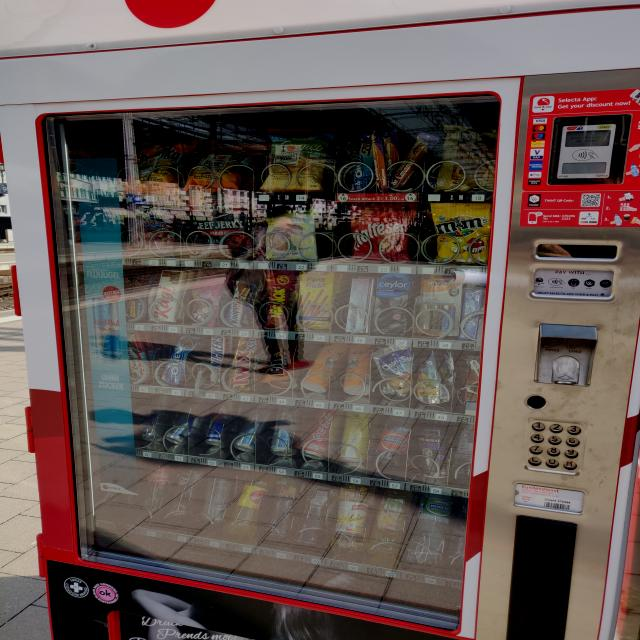c-swiss_dosenabisicetea__33__9120025930135: (296, 346, 342, 393), (340, 346, 373, 395)
caferoyal_classicmacchiato__33__7617014164487: (413, 419, 456, 478)
caprisun_multivitamin__20__4000177605004: (412, 351, 458, 405), (372, 348, 412, 400)
coke__dose_33__54491472: (298, 408, 332, 459)
fini_jellykisses_packung_80_1_8410525116704: (184, 268, 224, 327)
fuse_lemon_dose_33__5449000235947: (338, 416, 371, 465)
henniez_gruen__33__7610235000442: (407, 496, 451, 567)
henniez_rot__33__7610235000442: (370, 420, 410, 478)
jlbrichard_gauffre__90__5410495002000: (438, 122, 494, 190)
kagi___50__7610046000259: (147, 268, 184, 322)
knoppers_riegel____4035800488808: (225, 279, 257, 328)
lorenz_nicnacs__40__4018077798818: (264, 274, 295, 330)
malburner_partysticks__40__7610200279682: (298, 265, 337, 334)
maltesers___100__5000159023061: (341, 201, 416, 260)
mnms_gelb__45__40111445: (430, 199, 495, 265)
oreo___66__84100733: (155, 334, 198, 384)
ramseier_schorle__50__7610057012456: (329, 485, 373, 553)
sinalco_orange__50__4018715000112: (225, 471, 267, 540)
snickers___50__5000159461122: (201, 335, 230, 384)
twix___50__5000159459228: (223, 335, 257, 393)
zweifel_graneochilli__100__7610095184009: (264, 126, 333, 192)
zweifel_paprika__90__7610095013002: (183, 142, 261, 195), (119, 138, 189, 197)
